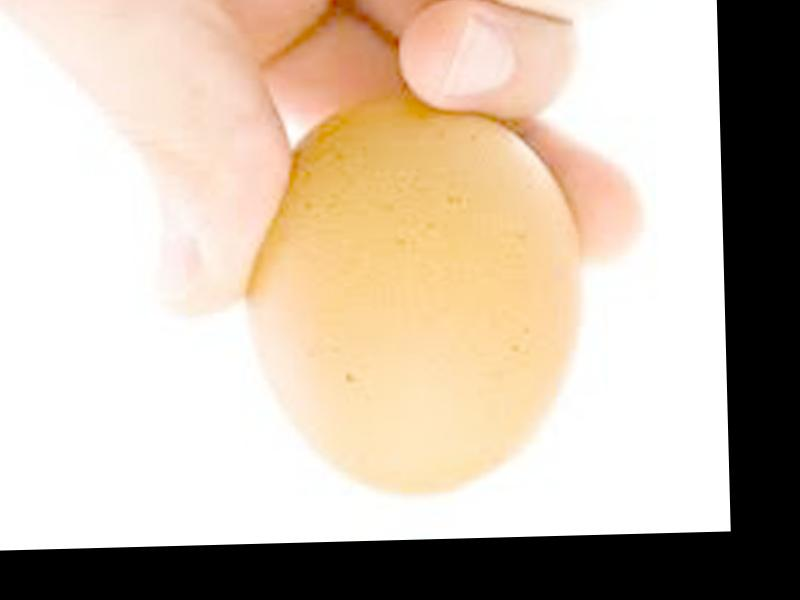Eggs: (241, 102, 589, 502)
